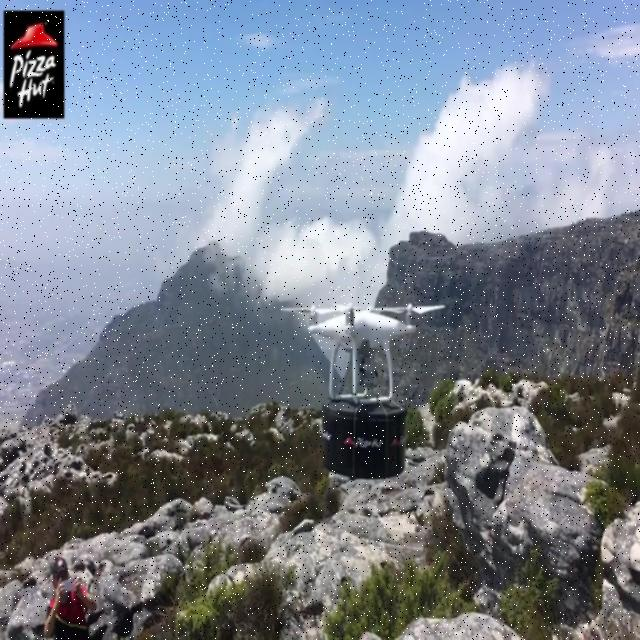UAV: (282, 303, 446, 403)
